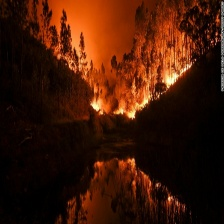fire: (118, 95, 156, 120), (164, 63, 197, 88), (89, 93, 106, 113)
